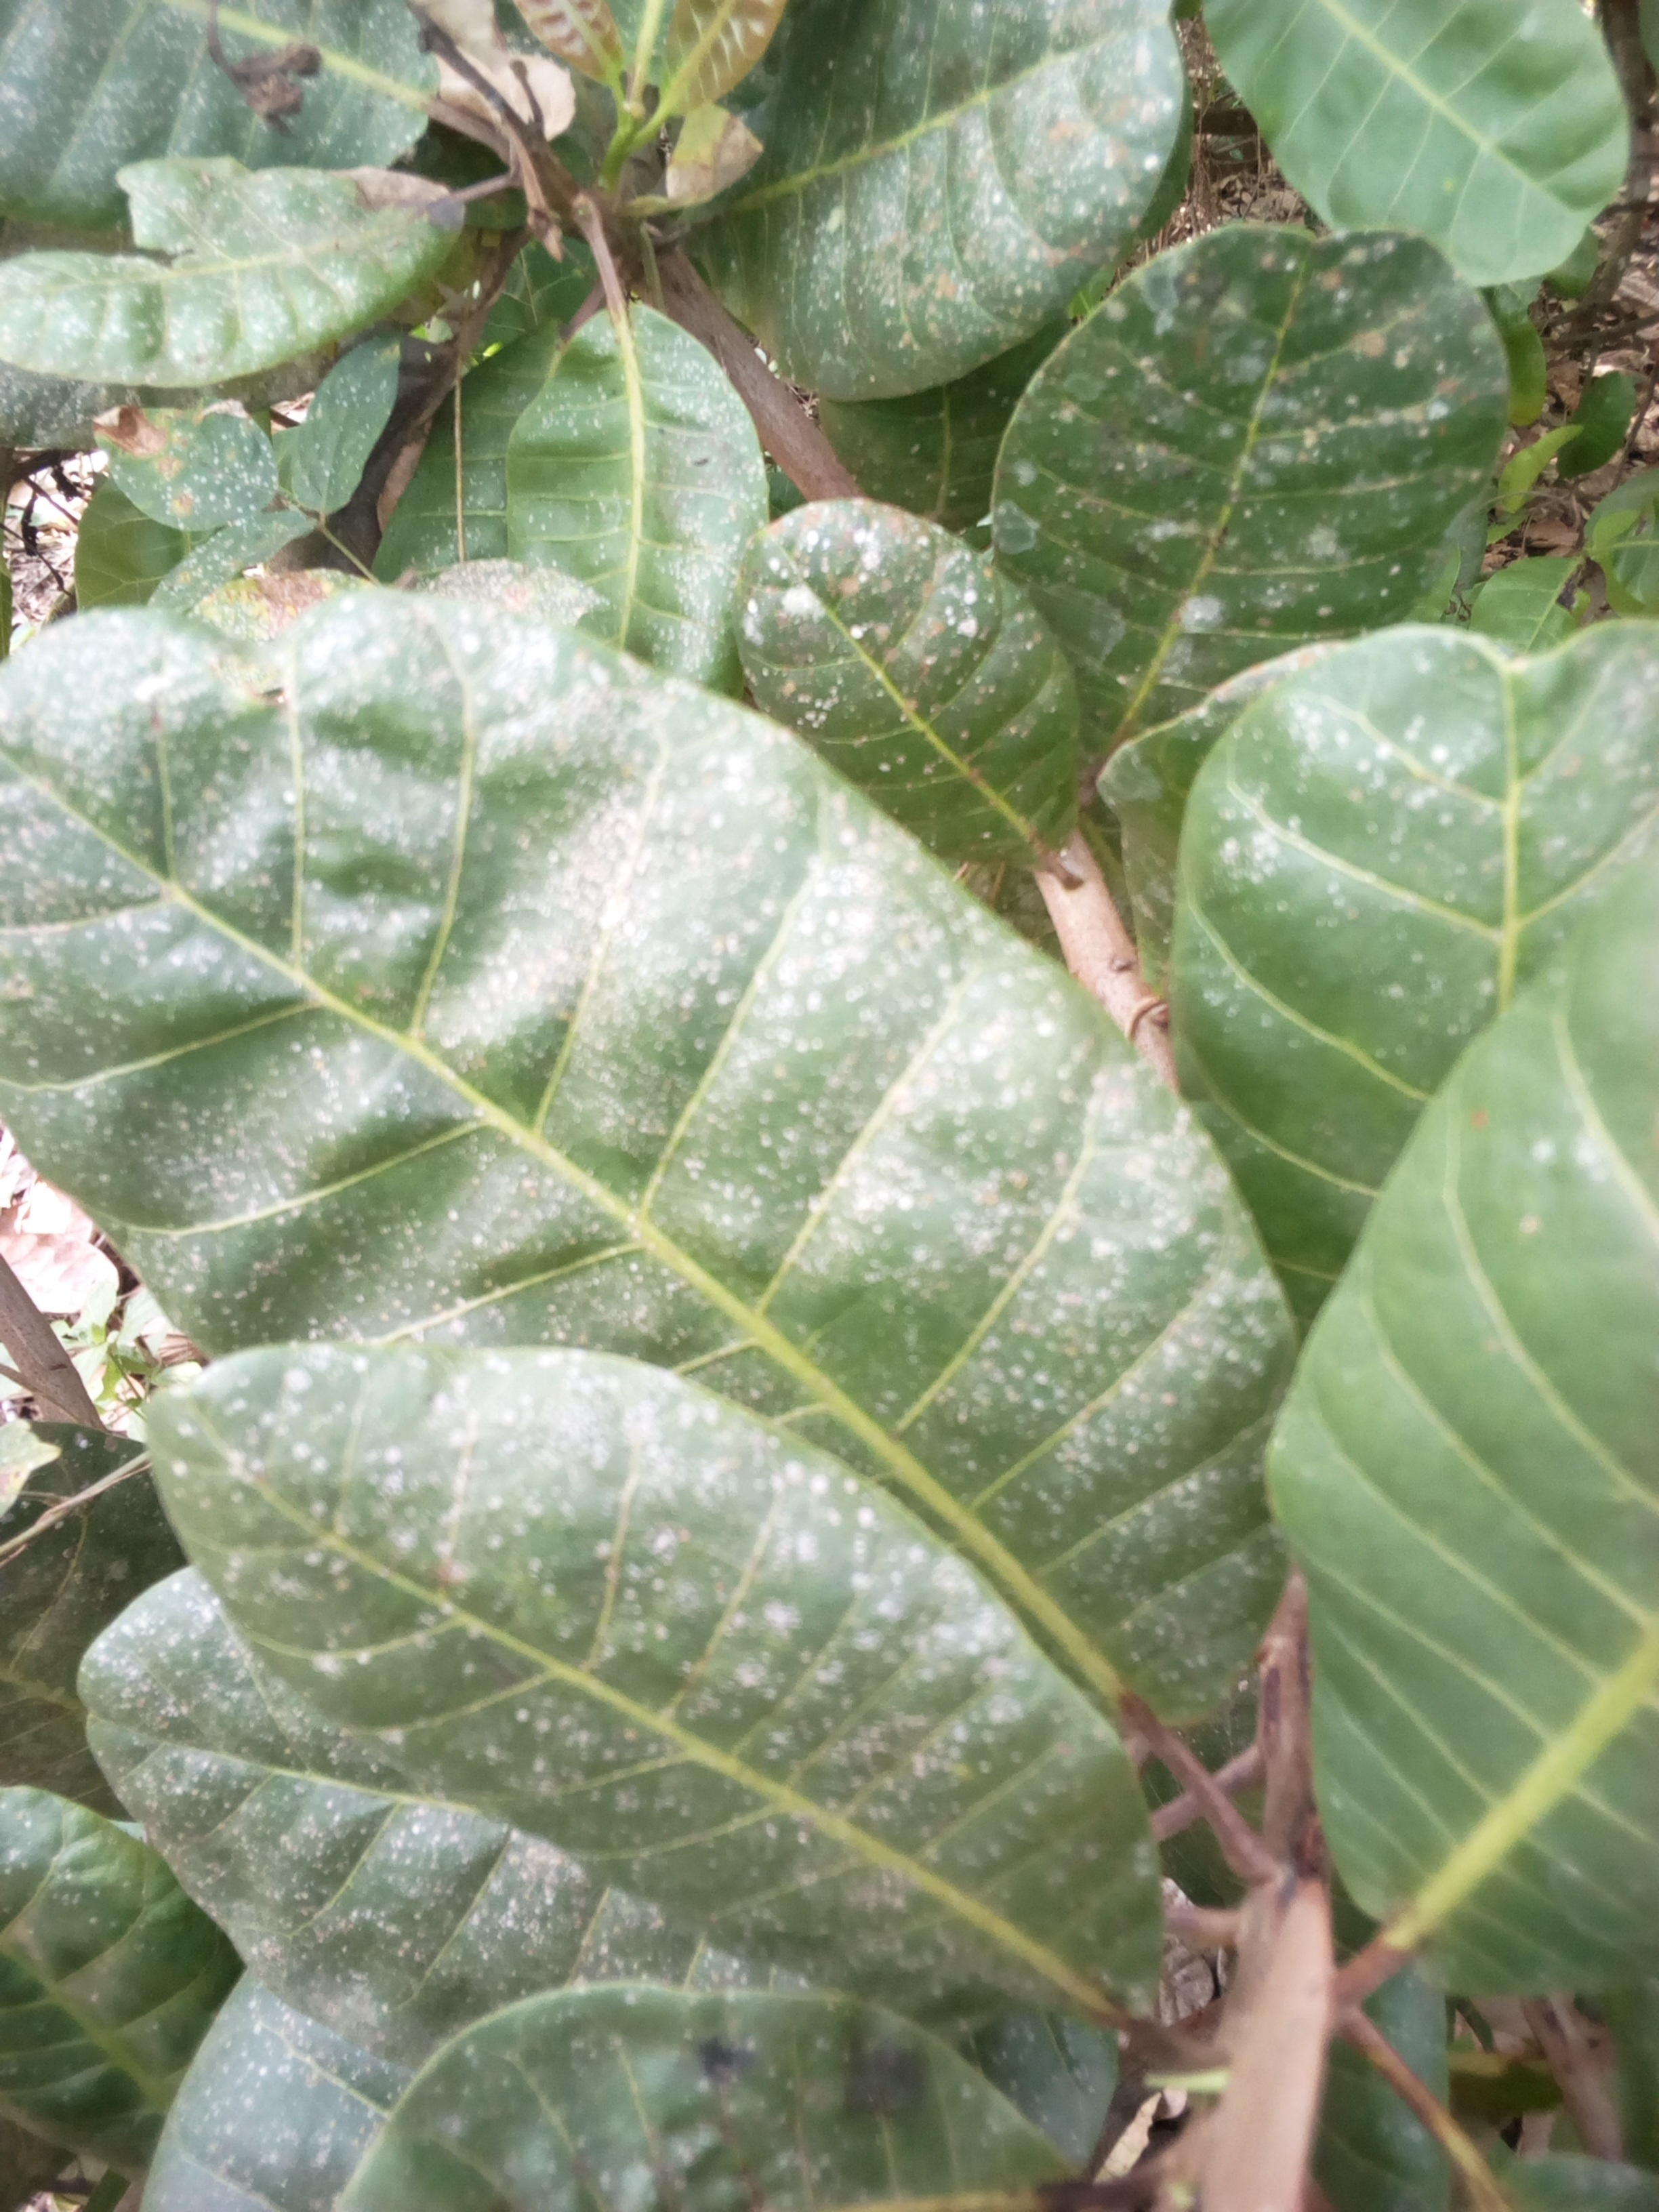Oïdium: (0, 529, 1324, 1773), (125, 1320, 1202, 1973), (77, 1557, 948, 2069), (1060, 615, 1659, 1252), (708, 0, 1246, 415), (0, 143, 477, 439)
